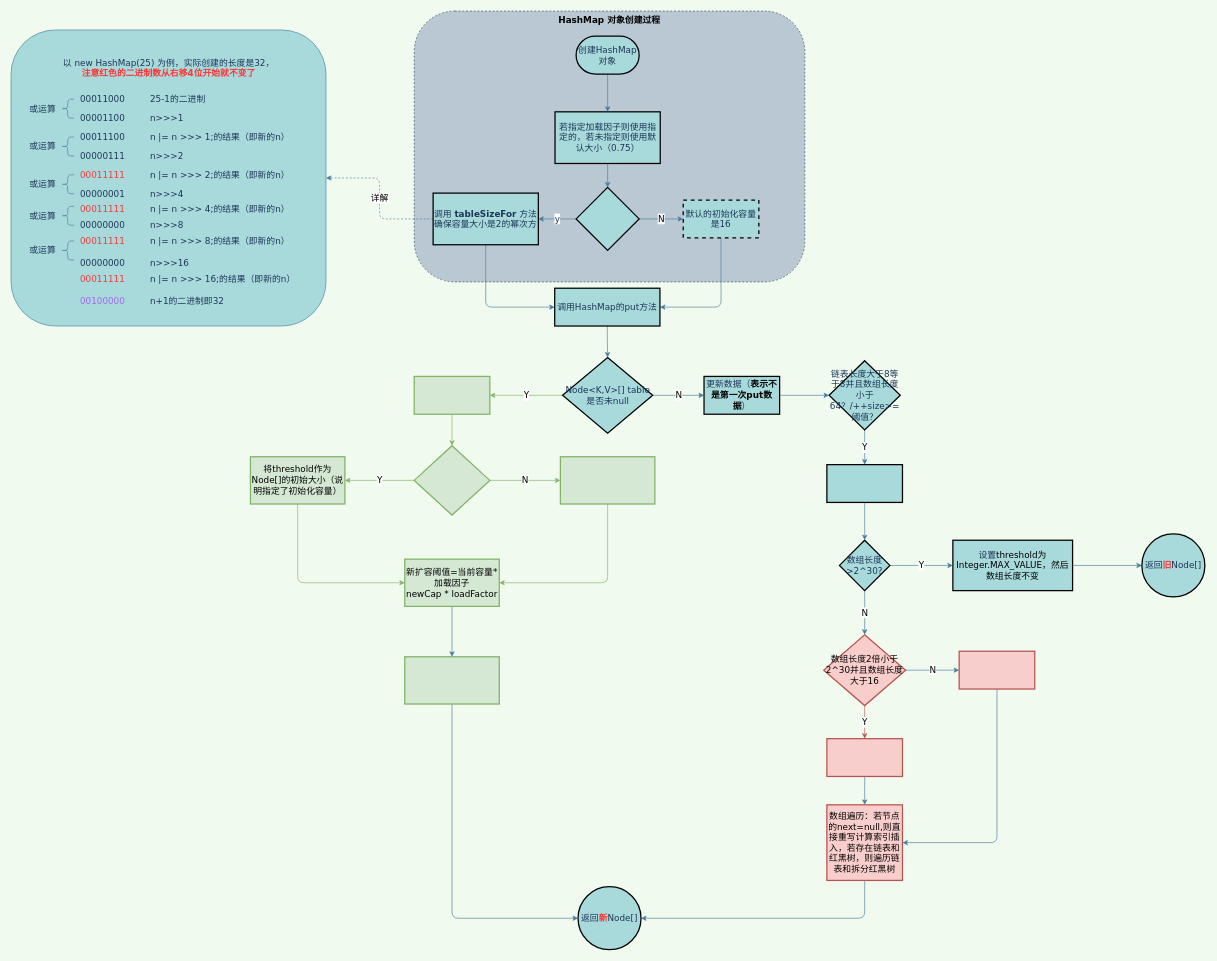
The diagram is 1217 pixels wide and 961 high, and some of its shapes have lost their labels. Each missing label, with the box of its shape:
threshold>0?: (413, 445, 490, 515)
创建 Node[]，插入数据: (404, 656, 500, 704)
将默认值16作为初始化容量（说明没指定初始化大小）: (559, 456, 655, 504)
指定初始化容量？: (575, 186, 639, 251)
数组容量扩容2倍，阈值是新容量*加载因子: (958, 650, 1035, 689)
数组长度和阈值都扩容为原本2倍: (826, 738, 903, 777)
调用 resize()方法: (826, 464, 903, 503)
调用resize方法（ 表示第一次put数据 ）: (413, 375, 490, 415)
